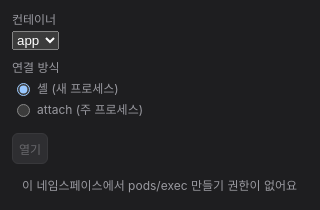
without pods/exec permission the button is off and says why; attach has its own permission
Expected: the button "열기" is disabled, [12,133,48,164]
Click the radio button labelled "attach (주 프로세스)" at x=24, y=110, box [17,104,30,116]
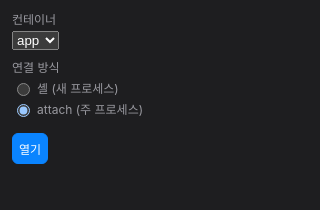
Expected: the button "열기" is enabled, [12,133,48,164]
